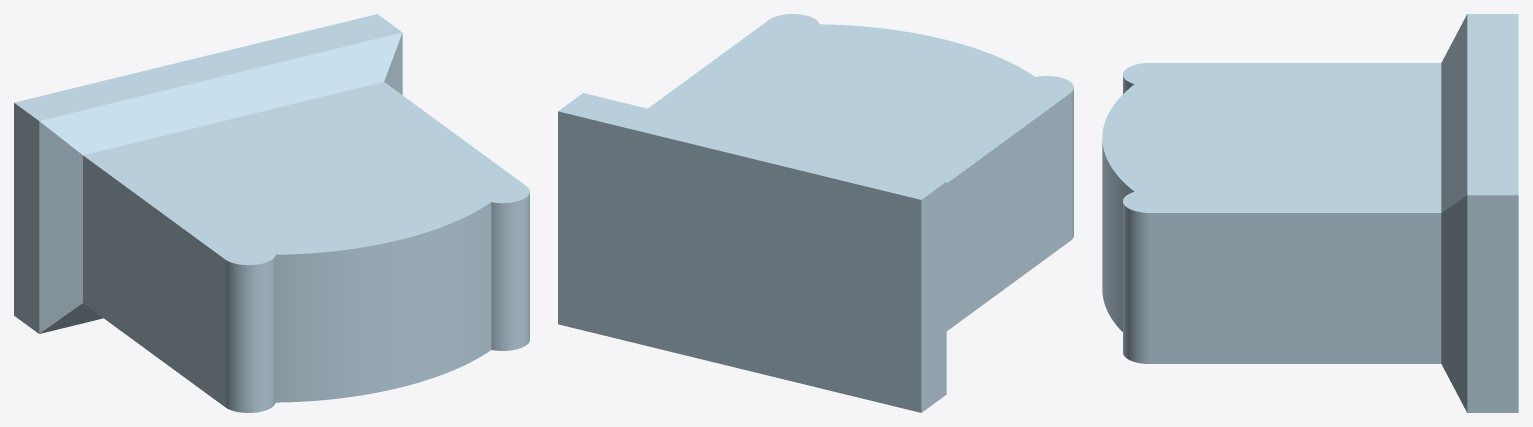
3 renders of one model, left to right at view 1: azimuth 30°, elevation 25°; view 2: azimuth 150°, elevation 25°; view 3: azimuth 270°, elevation 25°, orthographic. The views are drawn at different scales.
Visible parts, largest first — view 1: PA-462-F_LOD0; view 2: PA-462-F_LOD0; view 3: PA-462-F_LOD0.
Part boxes in pixels (x1,y1,x2,y2): PA-462-F_LOD0: [14, 14, 529, 412]; PA-462-F_LOD0: [558, 14, 1073, 412]; PA-462-F_LOD0: [1102, 14, 1518, 412].
Size of what is drawn, in the model's own units: 63.5 by 35.56 by 61.64.
